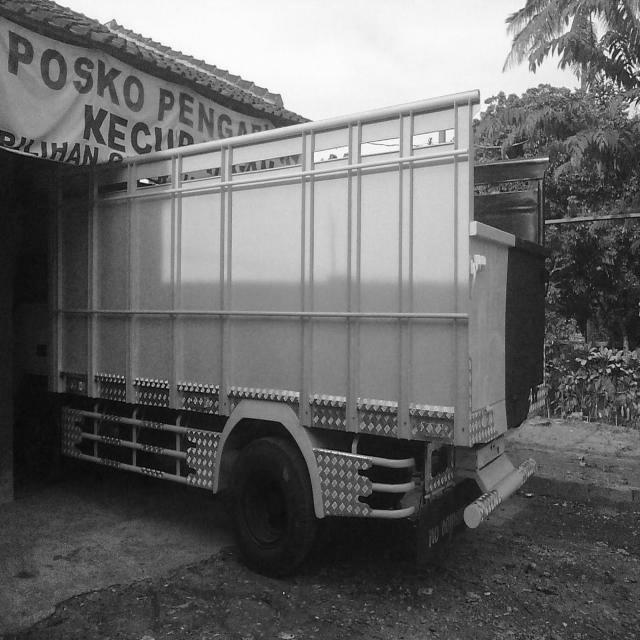truck: (3, 91, 549, 575)
